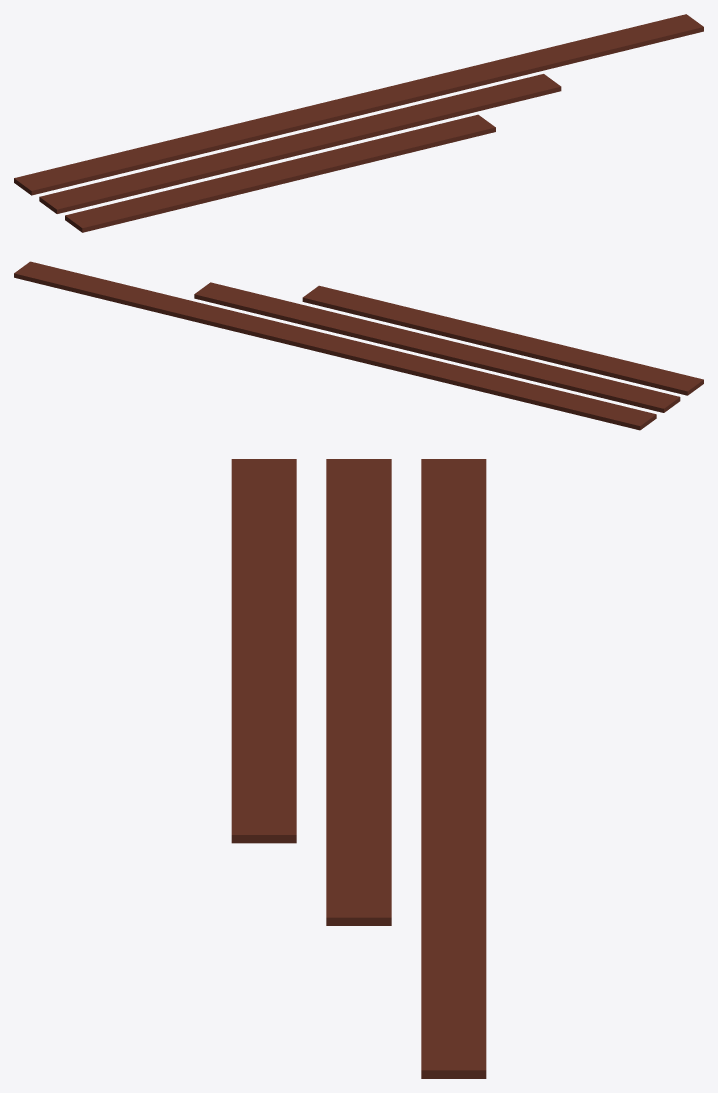
The model's file is floor-board-220x32-textured_ipe_v0.1.dae.
3 views of the same model, one above another, from view 1: azimuth 30°, elevation 25°; view 2: azimuth 150°, elevation 25°; view 3: azimuth 270°, elevation 25° (orthographic). The views are drawn at different scales.
Parts seen in each view (by area): view 1: IB-272470_floor-board-220x32-textured_ipe_4880mm, IB-272468_floor-board-220x32-textured_ipe_3660mm, IB-272469_floor-board-220x32-textured_ipe_3000mm; view 2: IB-272470_floor-board-220x32-textured_ipe_4880mm, IB-272468_floor-board-220x32-textured_ipe_3660mm, IB-272469_floor-board-220x32-textured_ipe_3000mm; view 3: IB-272470_floor-board-220x32-textured_ipe_4880mm, IB-272468_floor-board-220x32-textured_ipe_3660mm, IB-272469_floor-board-220x32-textured_ipe_3000mm.
Part boxes in pixels (x1=…): IB-272470_floor-board-220x32-textured_ipe_4880mm: x1=14, y1=14, x2=703, y2=195; IB-272468_floor-board-220x32-textured_ipe_3660mm: x1=39, y1=74, x2=561, y2=213; IB-272469_floor-board-220x32-textured_ipe_3000mm: x1=65, y1=114, x2=495, y2=232; IB-272470_floor-board-220x32-textured_ipe_4880mm: x1=14, y1=261, x2=656, y2=430; IB-272468_floor-board-220x32-textured_ipe_3660mm: x1=194, y1=282, x2=680, y2=412; IB-272469_floor-board-220x32-textured_ipe_3000mm: x1=302, y1=285, x2=703, y2=395; IB-272470_floor-board-220x32-textured_ipe_4880mm: x1=421, y1=459, x2=486, y2=1078; IB-272468_floor-board-220x32-textured_ipe_3660mm: x1=326, y1=459, x2=391, y2=925; IB-272469_floor-board-220x32-textured_ipe_3000mm: x1=231, y1=459, x2=296, y2=843.
Bounding box in the file's own units: 4880 × 860 × 32.
